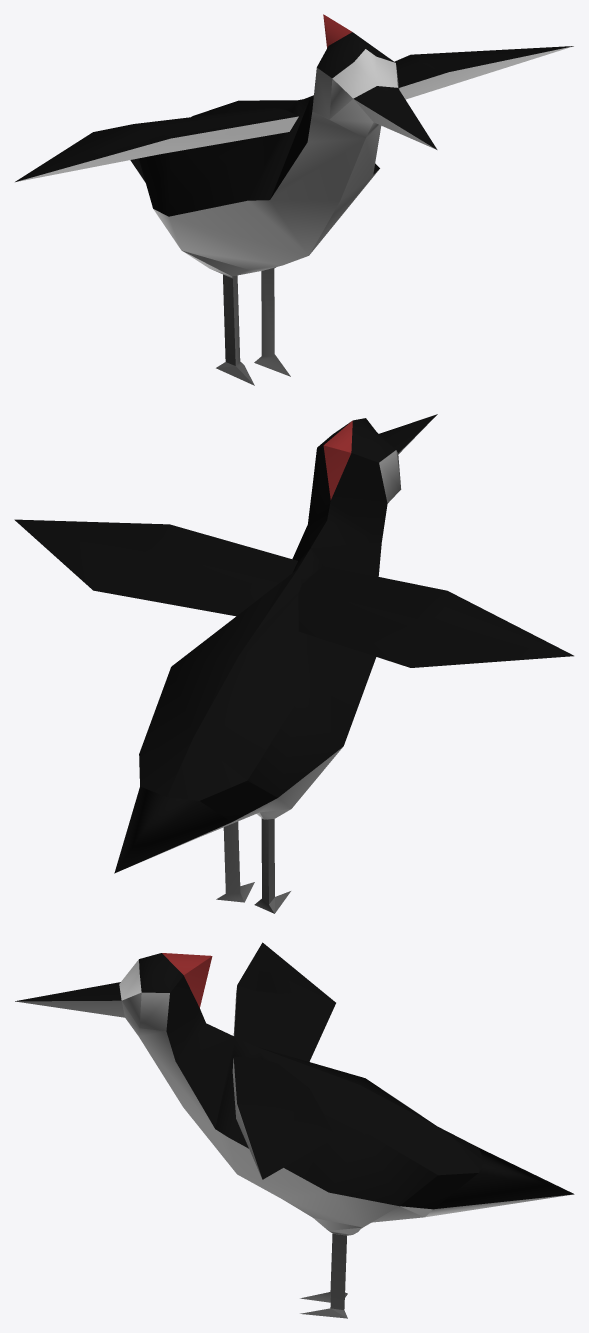
File: Birbidl.fbx
3 views of the same model, one above another, from view 1: azimuth 30°, elevation 25°; view 2: azimuth 150°, elevation 25°; view 3: azimuth 270°, elevation 25° (orthographic). The views are drawn at different scales.
Visible parts, largest first — view 1: pCube1; view 2: pCube1; view 3: pCube1.
Part boxes in pixels (box(x1,y1,x2,y2)): pCube1: box(15, 14, 573, 385); pCube1: box(14, 414, 573, 913); pCube1: box(15, 942, 574, 1318).
Bounding box in the file's own units: 2.3 × 1.59 × 2.29.
